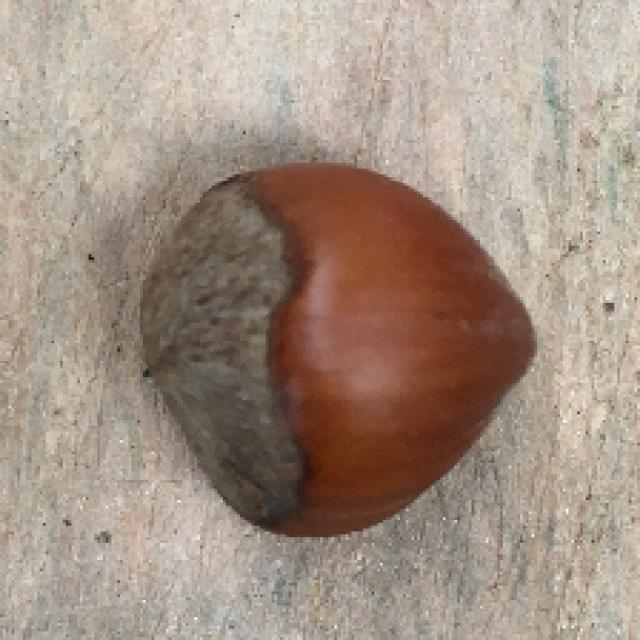qualityHazelnut: (130, 156, 540, 542)
